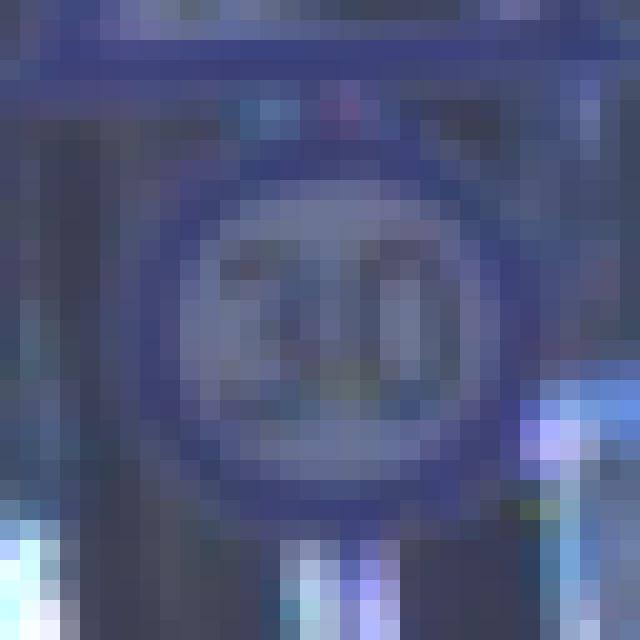SPEED LIMIT 30: (135, 149, 529, 536)
